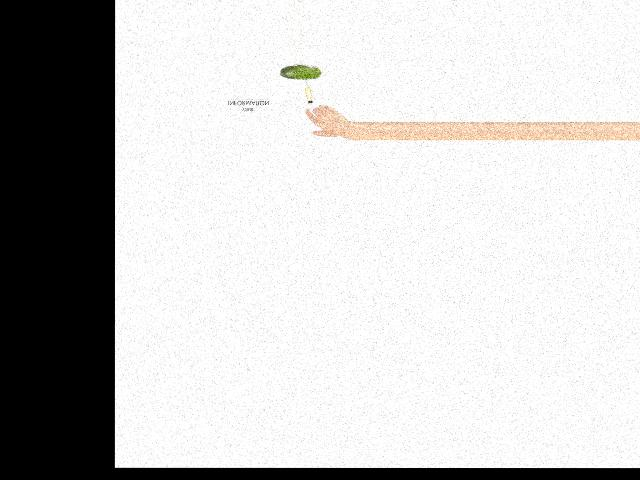cucumber: (280, 65, 322, 79)
